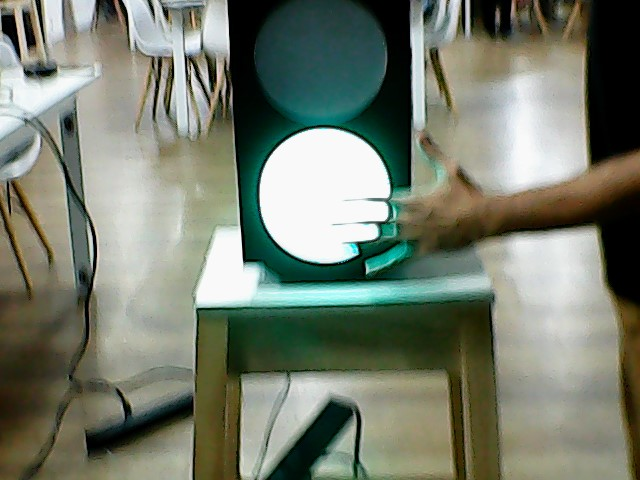verde: (208, 1, 459, 297)
